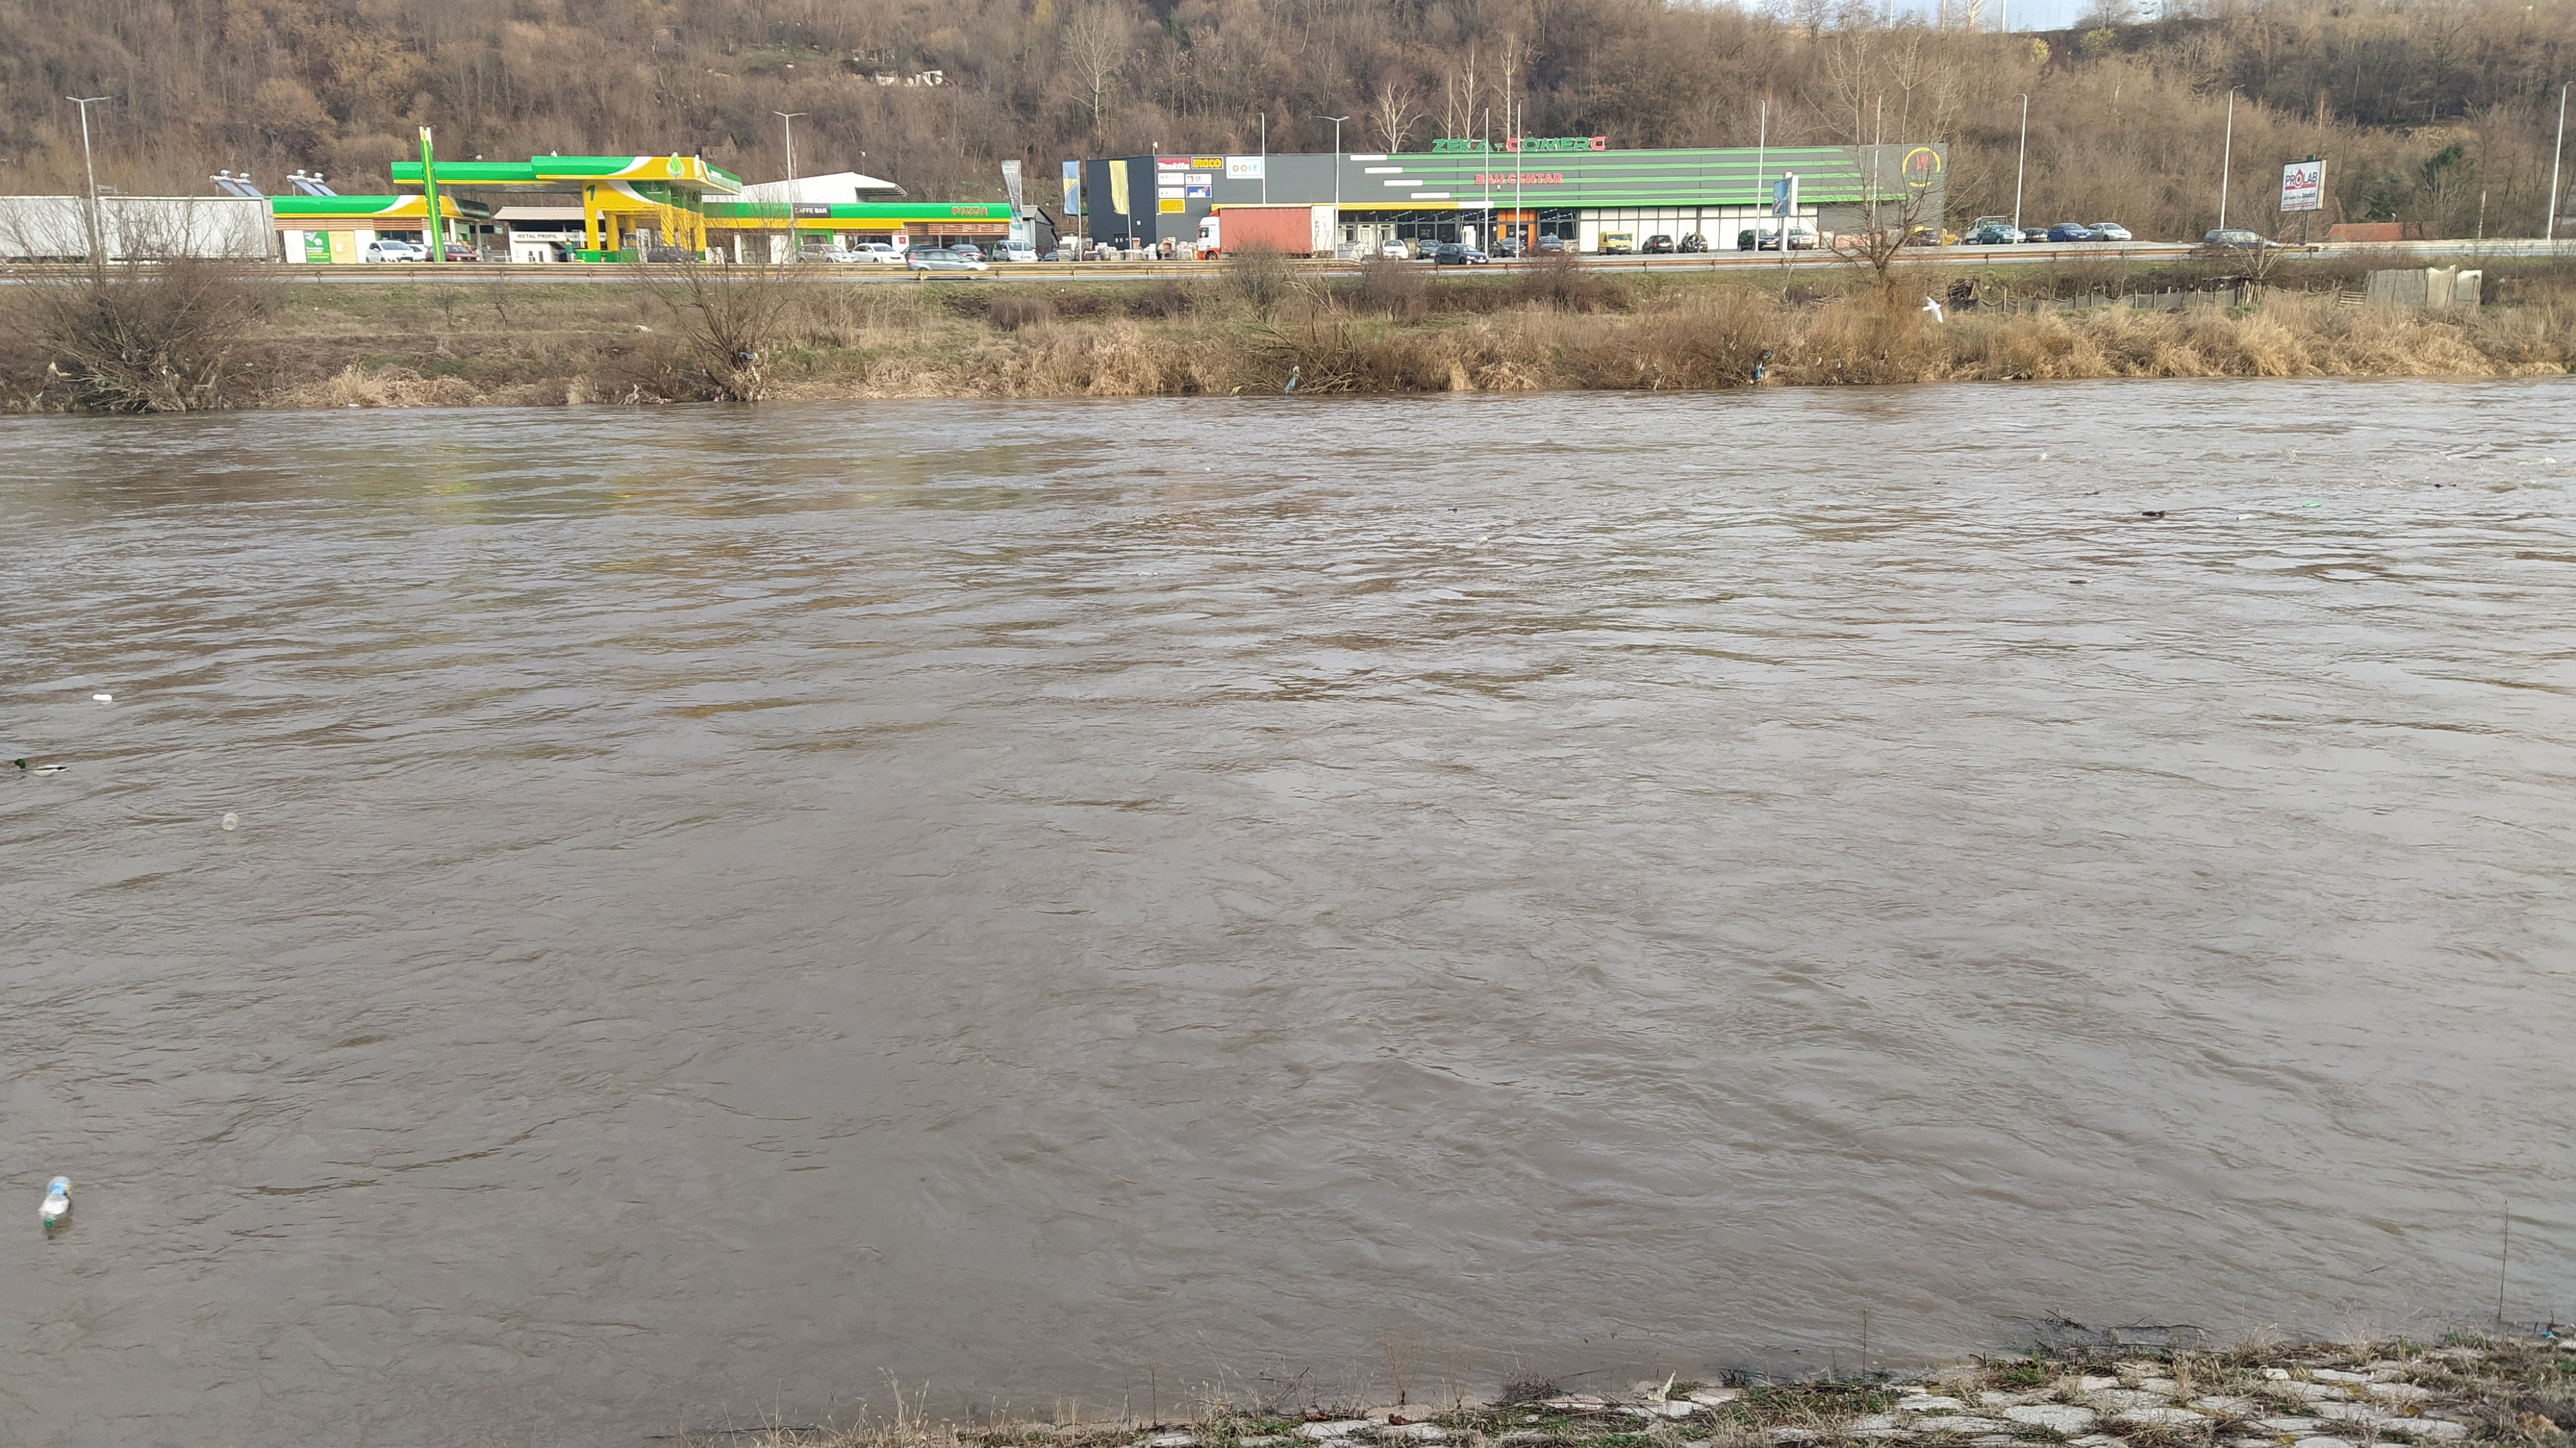Plastic Bottle: (39, 1175, 71, 1227), (2541, 1324, 2576, 1336), (221, 813, 237, 830), (2141, 510, 2166, 517), (2302, 501, 2321, 508), (92, 694, 111, 701), (1476, 536, 1488, 543), (2084, 490, 2100, 496), (1136, 572, 1157, 575), (2236, 515, 2250, 520), (347, 404, 359, 407)
